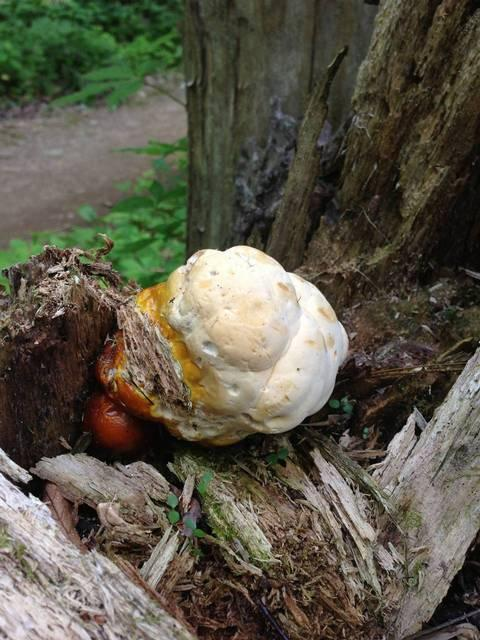poisonous_mushroom: (94, 243, 350, 448)
